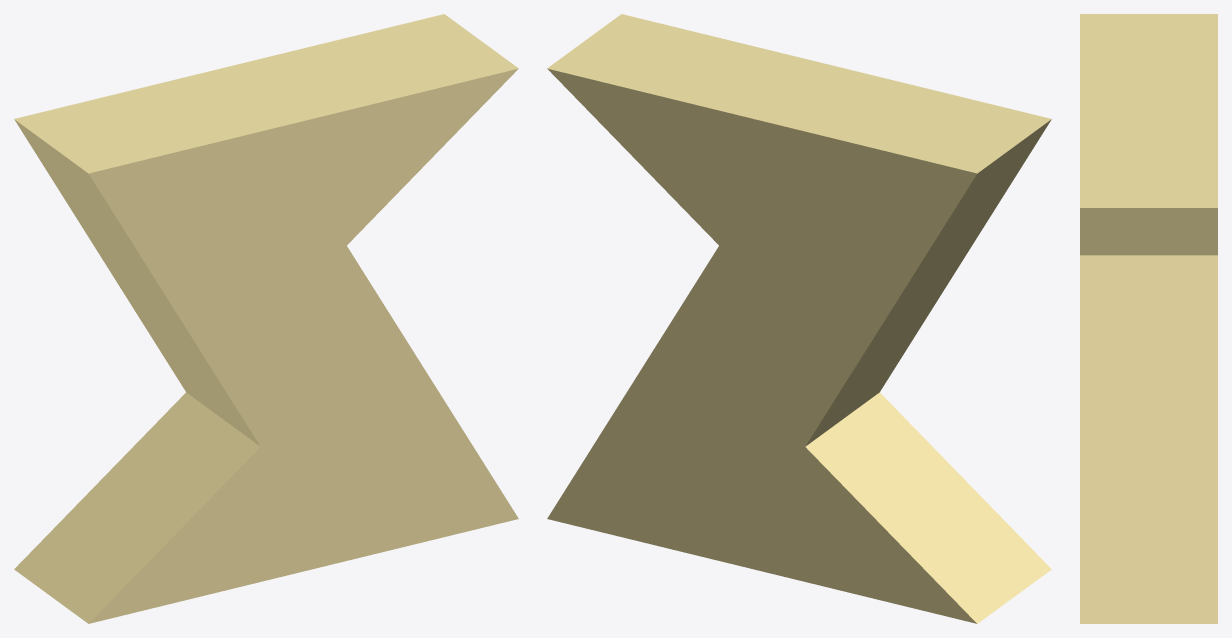
Rendered from bolt_original.obj.
3 renders of one model, left to right at view 1: azimuth 30°, elevation 25°; view 2: azimuth 150°, elevation 25°; view 3: azimuth 270°, elevation 25°, orthographic. The views are drawn at different scales.
Parts seen in each view (by area): view 1: bolt; view 2: bolt; view 3: bolt.
Part boxes in pixels (x1=…): bolt: x1=14, y1=14, x2=518, y2=623; bolt: x1=547, y1=14, x2=1051, y2=623; bolt: x1=1080, y1=14, x2=1217, y2=623.
Size of the model in its own units: 0.5 by 0.5 by 0.15.
